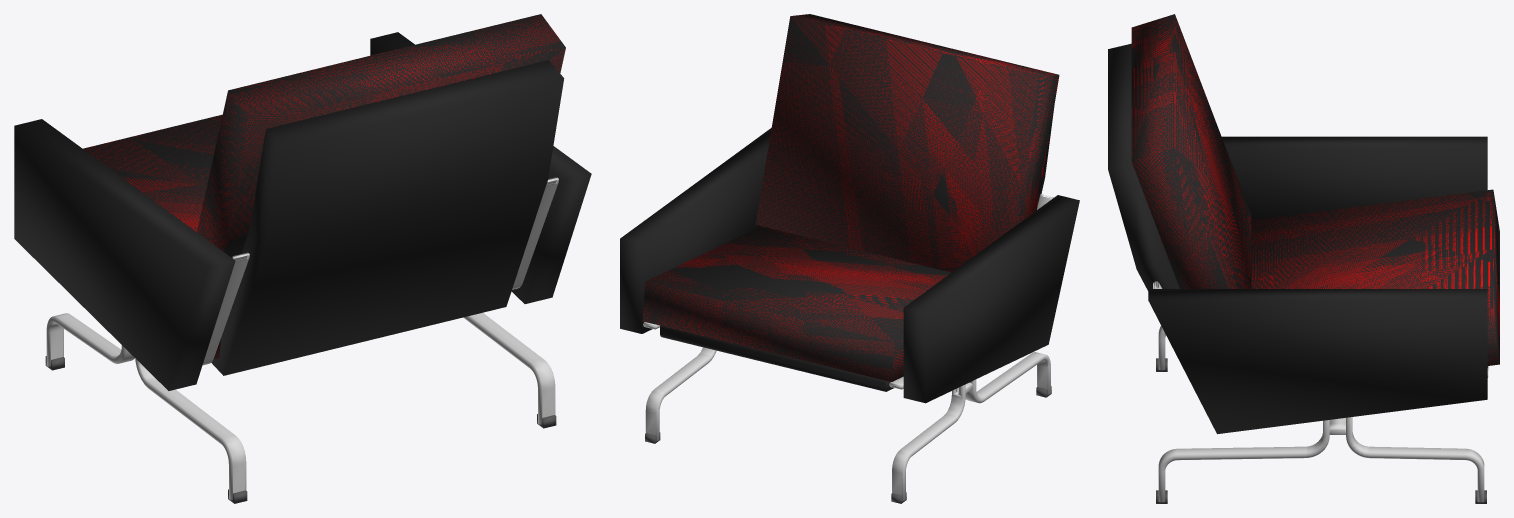
The picture shows the model from 3 angles, left to right: view 1: azimuth 30°, elevation 25°; view 2: azimuth 150°, elevation 25°; view 3: azimuth 270°, elevation 25°; orthographic projection. The views are drawn at different scales.
Visible parts, largest first — view 1: mesh21_mesh21-geometry, mesh4_mesh4-geometry, mesh3_mesh3-geometry, mesh2_mesh2-geometry, mesh20_mesh20-geometry, mesh1_mesh1-geometry, mesh5_mesh5-geometry, mesh23_mesh23-geometry; view 2: mesh3_mesh3-geometry, mesh2_mesh2-geometry, mesh4_mesh4-geometry, mesh1_mesh1-geometry, mesh20_mesh20-geometry, mesh38_mesh38-geometry; view 3: mesh1_mesh1-geometry, mesh3_mesh3-geometry, mesh2_mesh2-geometry, mesh4_mesh4-geometry, mesh21_mesh21-geometry, mesh20_mesh20-geometry.
Part boxes in pixels (box(x1,y1,x2,y2)): mesh21_mesh21-geometry: box(211, 60, 564, 375); mesh4_mesh4-geometry: box(14, 119, 235, 390); mesh3_mesh3-geometry: box(197, 14, 565, 257); mesh2_mesh2-geometry: box(83, 114, 222, 359); mesh20_mesh20-geometry: box(45, 312, 556, 503); mesh1_mesh1-geometry: box(370, 32, 591, 303); mesh5_mesh5-geometry: box(202, 253, 249, 365); mesh23_mesh23-geometry: box(512, 177, 558, 289); mesh3_mesh3-geometry: box(755, 14, 1059, 272); mesh2_mesh2-geometry: box(642, 226, 951, 381); mesh4_mesh4-geometry: box(903, 195, 1079, 403); mesh1_mesh1-geometry: box(620, 128, 771, 333); mesh20_mesh20-geometry: box(645, 347, 1051, 503); mesh38_mesh38-geometry: box(660, 325, 893, 391); mesh1_mesh1-geometry: box(1148, 289, 1487, 434); mesh3_mesh3-geometry: box(1131, 14, 1251, 288); mesh2_mesh2-geometry: box(1251, 189, 1499, 365); mesh4_mesh4-geometry: box(1222, 136, 1487, 220); mesh21_mesh21-geometry: box(1108, 43, 1179, 290); mesh20_mesh20-geometry: box(1156, 326, 1486, 503).
Bounding box in the file's own units: 0.5742 × 0.5784 × 0.5795.
